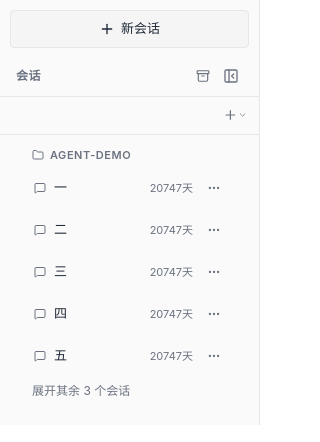
Test case: Sidebar 会话管理 › 归档视图按时间分档分组，空档不显示且档间由近到远
Click the button named "归档" at (203,76), box [191,64,215,88]
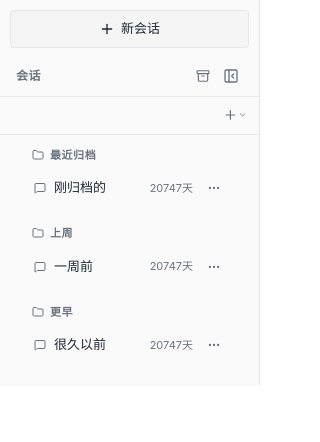
Expected: the text "最近归档" is shown, [50,146,96,163]
Expected: the text "上周" is shown, [50,225,73,242]
Expected: the text "更早" is shown, [50,304,73,320]
